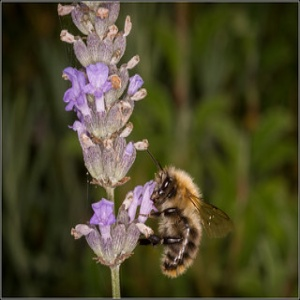bee: (145, 153, 234, 281)
